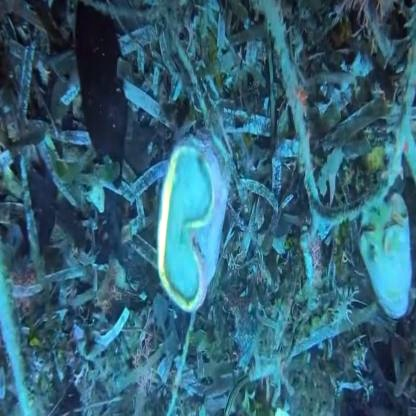pbottle: (368, 193, 416, 351)
sunglasses: (153, 109, 215, 312)
